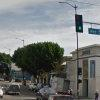Traffic light: (63, 6, 94, 42)
